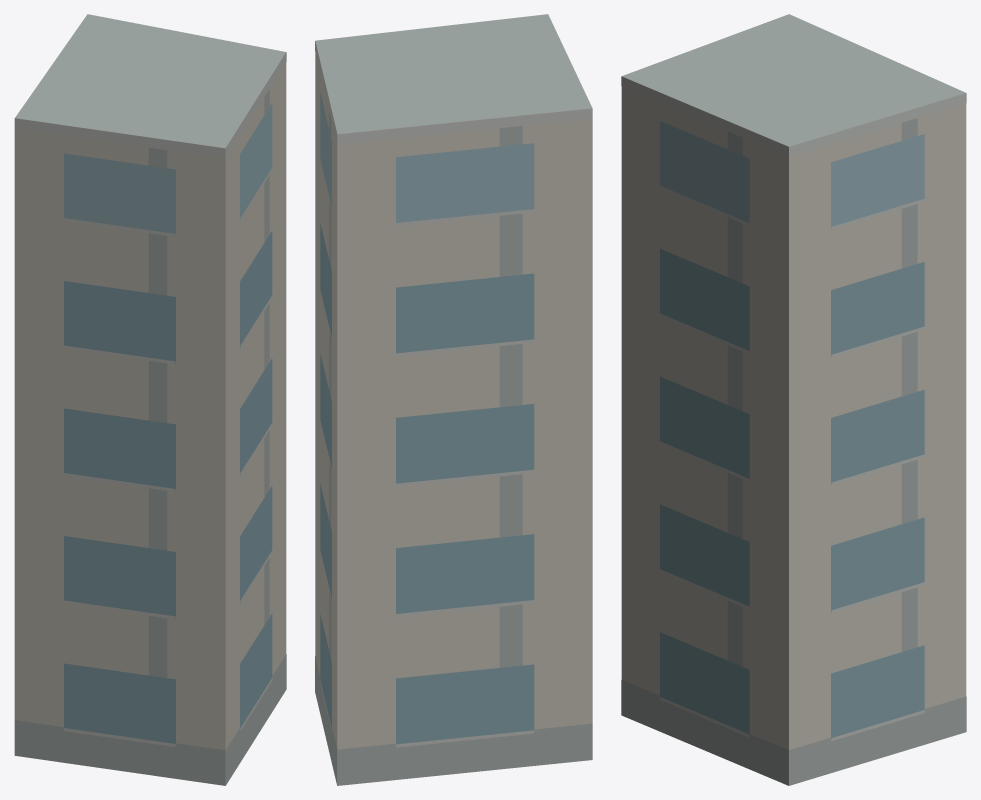
The model's file is survey-upis-32646840.glb.
The picture shows the model from 3 angles, left to right: view 1: azimuth 30°, elevation 25°; view 2: azimuth 150°, elevation 25°; view 3: azimuth 270°, elevation 25°; orthographic projection. The views are drawn at different scales.
Visible parts, largest first — view 1: survey-upis-32646840.tmp; view 2: survey-upis-32646840.tmp; view 3: survey-upis-32646840.tmp.
Part boxes in pixels (x1,y1,x2,y2): survey-upis-32646840.tmp: (14, 14, 286, 785); survey-upis-32646840.tmp: (315, 14, 592, 785); survey-upis-32646840.tmp: (621, 14, 966, 785).
Bounding box in the file's own units: 6.8 × 15.25 × 7.47.
